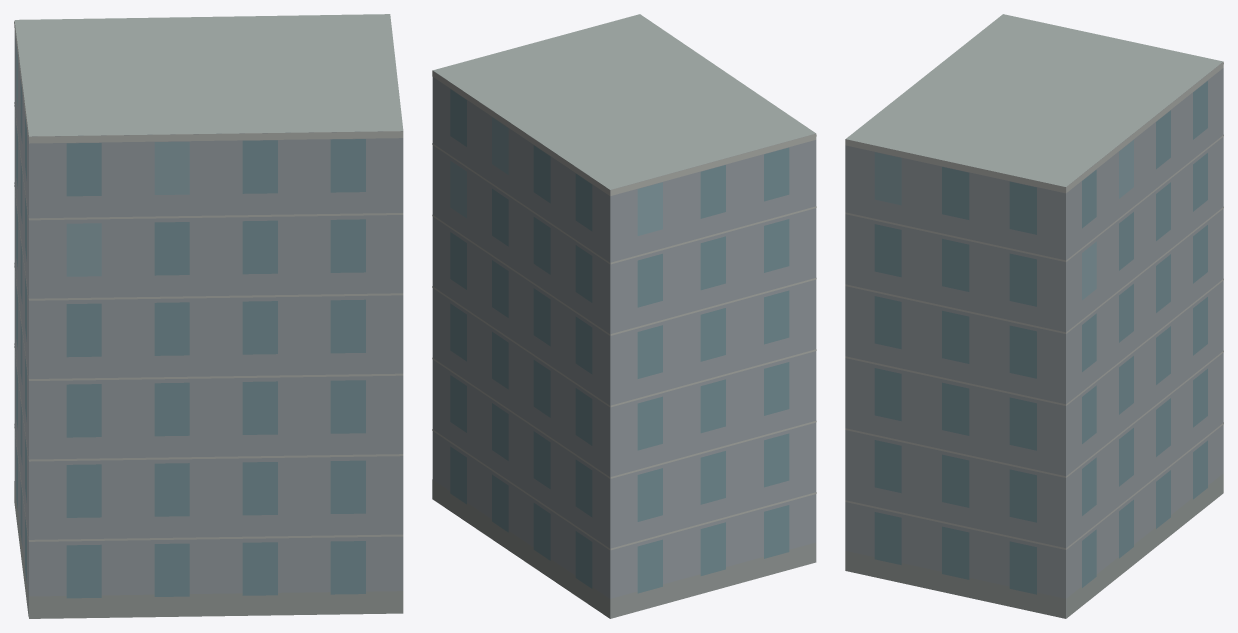
Rendered from survey-upis-32666866.glb.
The picture shows the model from 3 angles, left to right: view 1: azimuth 30°, elevation 25°; view 2: azimuth 150°, elevation 25°; view 3: azimuth 270°, elevation 25°; orthographic projection. The views are drawn at different scales.
Parts seen in each view (by area): view 1: survey-upis-32666866.tmp; view 2: survey-upis-32666866.tmp; view 3: survey-upis-32666866.tmp.
Part boxes in pixels (left/top/right/bottom): survey-upis-32666866.tmp: left=14, top=14, right=403, bottom=618; survey-upis-32666866.tmp: left=432, top=14, right=816, bottom=618; survey-upis-32666866.tmp: left=845, top=14, right=1223, bottom=618.
Size of the model in its own units: 14.47 by 16.8 by 13.36.
